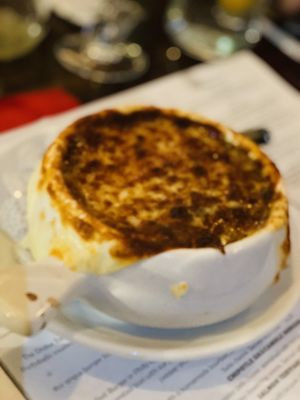curry: (0, 5, 300, 389)
sushi: (36, 105, 287, 278)
